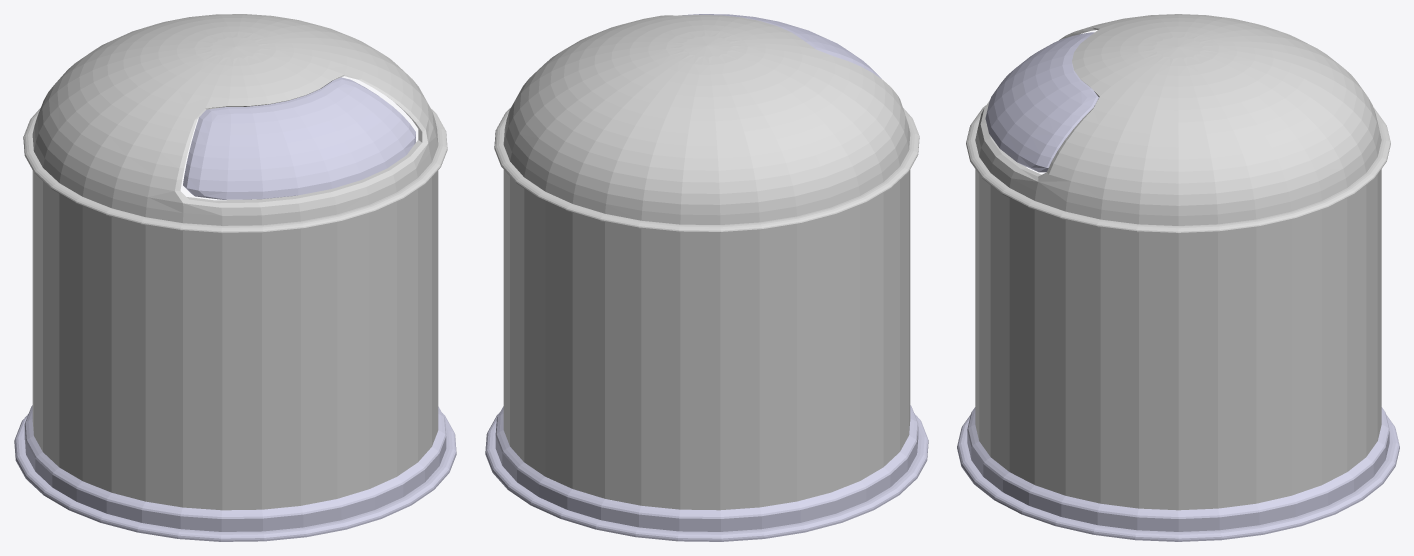
Rendered from sh-kl-bullet-trash-can.glb.
The picture shows the model from 3 angles, left to right: view 1: azimuth 30°, elevation 25°; view 2: azimuth 150°, elevation 25°; view 3: azimuth 270°, elevation 25°; orthographic projection.
Visible parts, largest first — view 1: bullet_trashcan_bullet_trashcan_PAINT_white, trashcan_lid; view 2: bullet_trashcan_bullet_trashcan_PAINT_white, trashcan_lid; view 3: bullet_trashcan_bullet_trashcan_PAINT_white, trashcan_lid.
Part boxes in pixels (x1,y1,x2,y2): bullet_trashcan_bullet_trashcan_PAINT_white: (23, 14, 447, 510); trashcan_lid: (14, 77, 456, 541); bullet_trashcan_bullet_trashcan_PAINT_white: (494, 15, 919, 510); trashcan_lid: (485, 14, 928, 541); bullet_trashcan_bullet_trashcan_PAINT_white: (966, 14, 1390, 510); trashcan_lid: (957, 32, 1399, 541).
Size of the model in its own units: 1 by 1 by 1.
